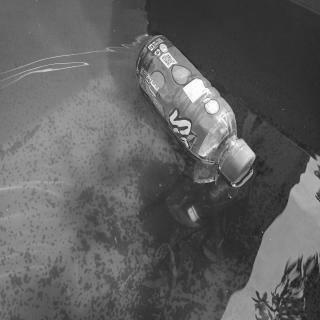bottle: (134, 30, 256, 187)
